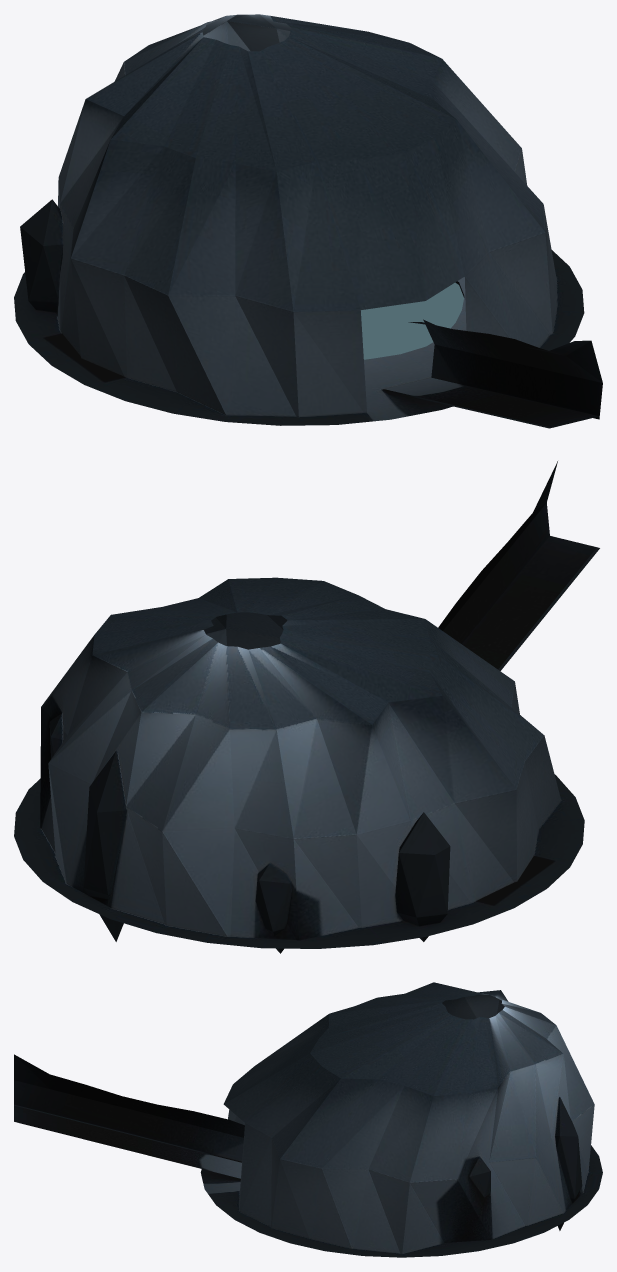
Rendered from cavern-study.glb.
3 renders of one model, top to bottom at view 1: azimuth 30°, elevation 25°; view 2: azimuth 150°, elevation 25°; view 3: azimuth 270°, elevation 25°, orthographic. The views are drawn at different scales.
Parts seen in each view (by area): view 1: Cavern_Baked, Pool_study; view 2: Cavern_Baked; view 3: Cavern_Baked.
Part boxes in pixels (x1,y1,x2,y2): Cavern_Baked: (14,14,602,428); Pool_study: (361,282,463,359); Cavern_Baked: (14,461,599,953); Cavern_Baked: (14,982,602,1257).
Size of what is drawn, in the model's own units: 56 by 30.8 by 82.
2 materials, 1 textured.
